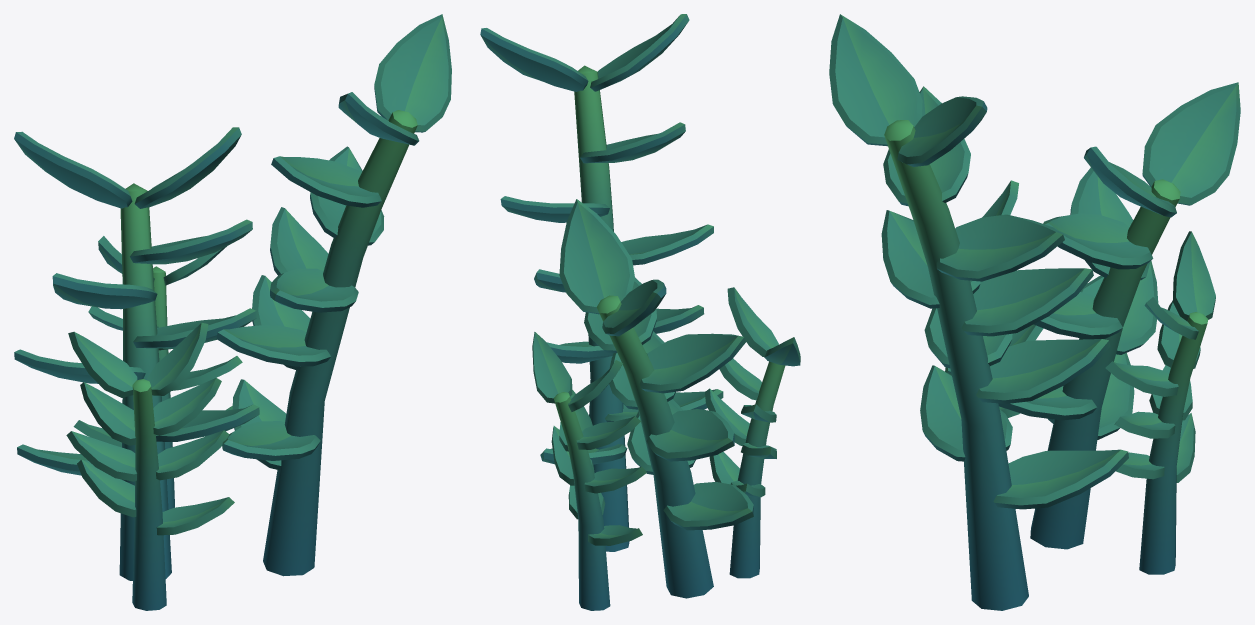
The model's file is Zz Plant.glb.
3 views of the same model, side by side, from view 1: azimuth 30°, elevation 25°; view 2: azimuth 150°, elevation 25°; view 3: azimuth 270°, elevation 25° (orthographic). The views are drawn at different scales.
Parts seen in each view (by area): view 1: zzplant_plant_medium; view 2: zzplant_plant_medium; view 3: zzplant_plant_medium.
Part boxes in pixels (<box>): zzplant_plant_medium: <box>14,14,451,610</box>; zzplant_plant_medium: <box>480,14,800,610</box>; zzplant_plant_medium: <box>829,14,1240,610</box>.
Size of the model in its own units: 1.1 by 1.54 by 0.9921.
1 material, 1 textured.
